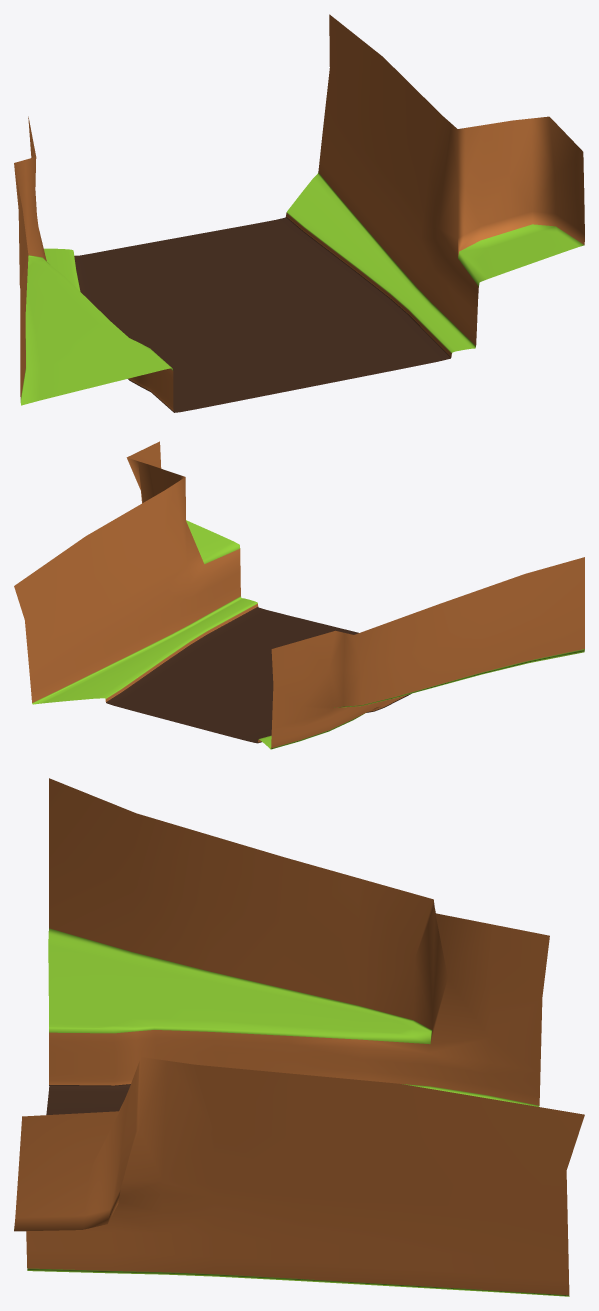
3 renders of one model, top to bottom at view 1: azimuth 30°, elevation 25°; view 2: azimuth 150°, elevation 25°; view 3: azimuth 270°, elevation 25°, orthographic. The views are drawn at different scales.
Parts seen in each view (by area): view 1: pCube2; view 2: pCube2; view 3: pCube2.
Part boxes in pixels (<box>): pCube2: <box>14,14,584,412</box>; pCube2: <box>14,441,584,749</box>; pCube2: <box>14,778,584,1296</box>.
Size of the model in its own units: 395 by 126 by 275.
Materials: 1 (1 with a texture image).
